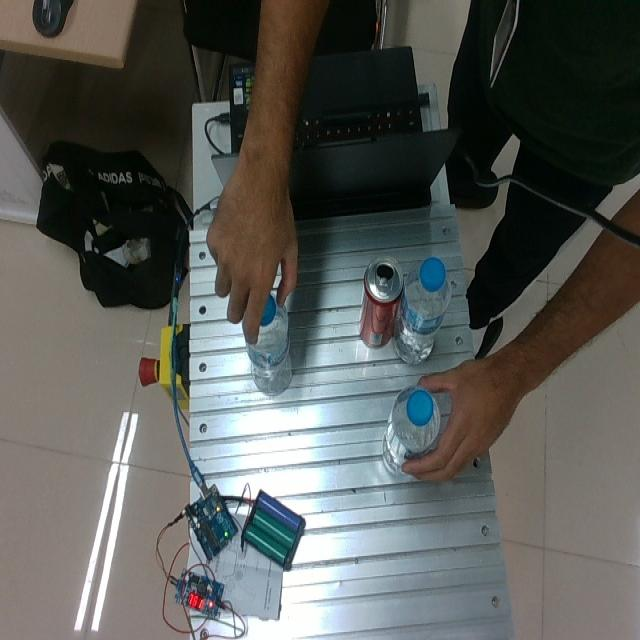coca: (358, 255, 403, 349)
lavie: (392, 259, 452, 365), (381, 387, 441, 476), (245, 292, 291, 396)
